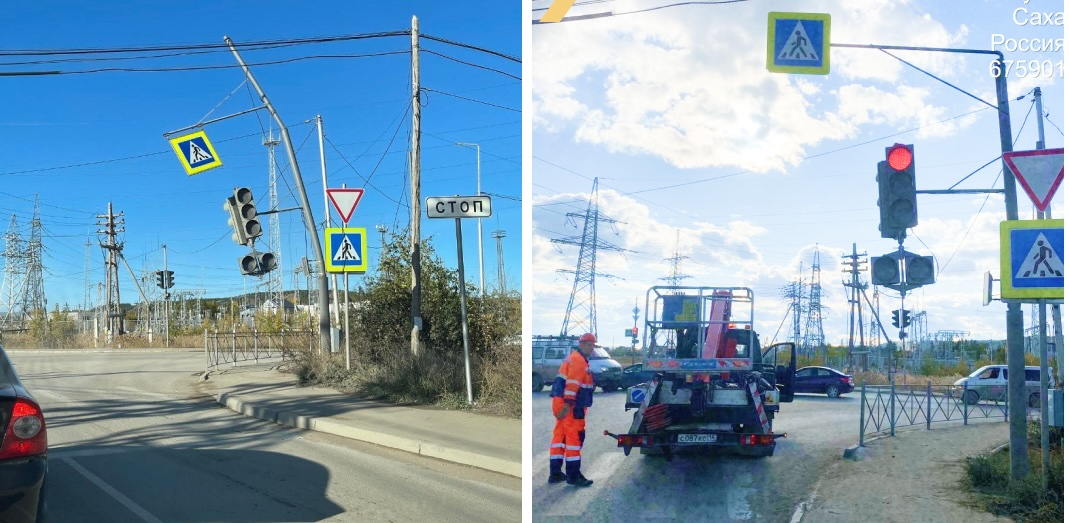tl: (865, 143, 920, 234), (225, 183, 263, 249)
